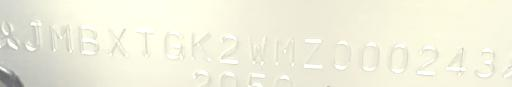letter: (438, 44, 470, 80), (102, 25, 130, 60), (328, 38, 356, 71), (412, 43, 440, 76), (300, 37, 326, 72), (355, 41, 383, 72), (385, 42, 413, 73), (471, 47, 499, 78), (188, 28, 214, 61), (216, 30, 240, 65), (162, 29, 188, 60), (49, 22, 73, 55), (76, 23, 100, 56), (272, 36, 298, 65), (132, 26, 156, 57), (246, 34, 270, 63), (24, 21, 44, 52)
